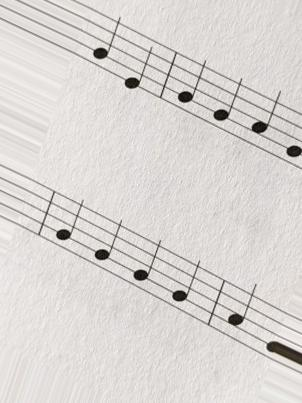note: (82, 4, 122, 77), (122, 27, 158, 102), (167, 250, 202, 326), (223, 282, 257, 359), (129, 228, 163, 303), (92, 210, 127, 281), (52, 190, 86, 261), (246, 88, 280, 159), (210, 69, 243, 141), (174, 51, 206, 122)
